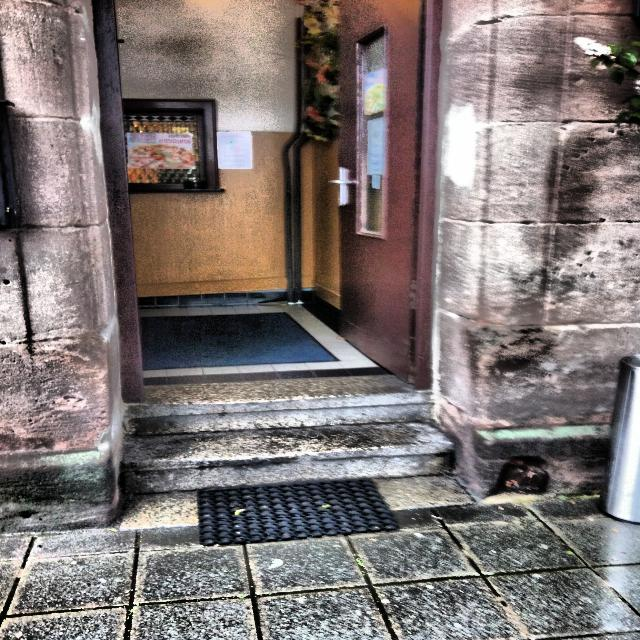escada: (112, 393, 459, 494)
